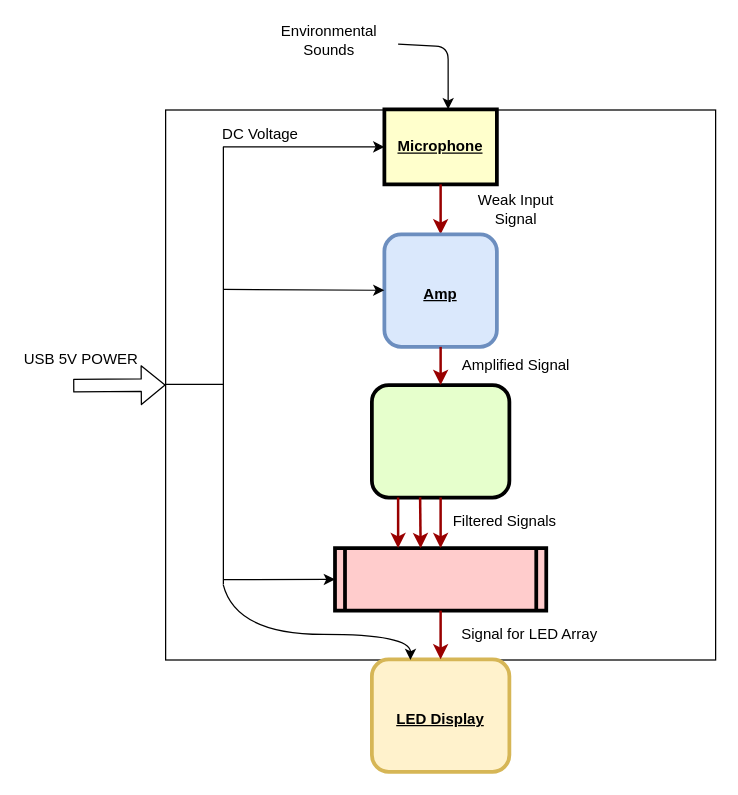
Some shapes in this 738 by 795 pixel diagram are drawn without their labels. The shapes that lost their labels are listed below. From the top down, each one's centre as x and y in pixels, then its label:
the point at 440,440: Narrow Band Pass Filters
the point at 440,579: Processor
